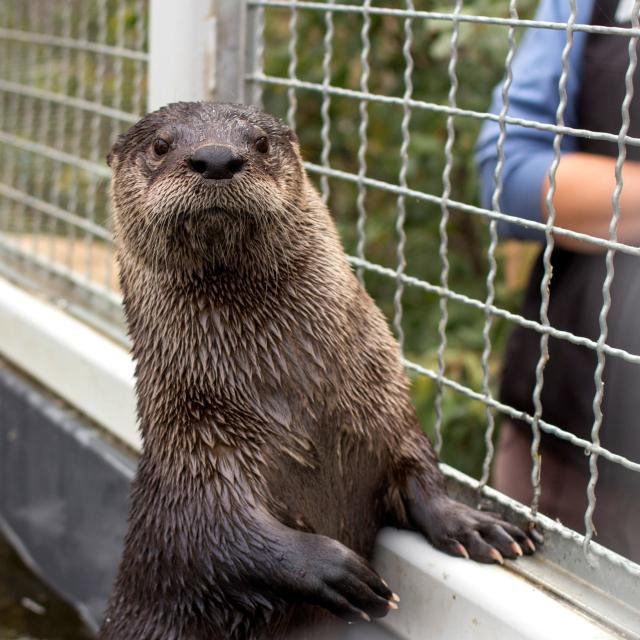Otter: (98, 90, 489, 640)
